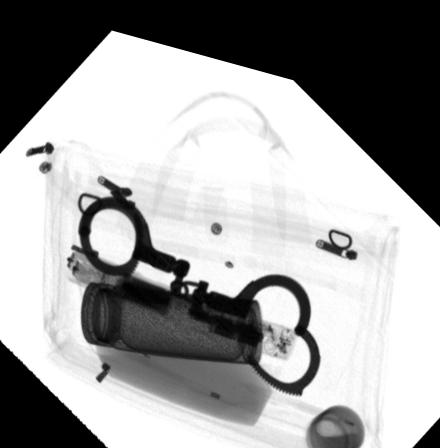Baton: (62, 241, 297, 347)
HandCuffs: (76, 183, 321, 381)
